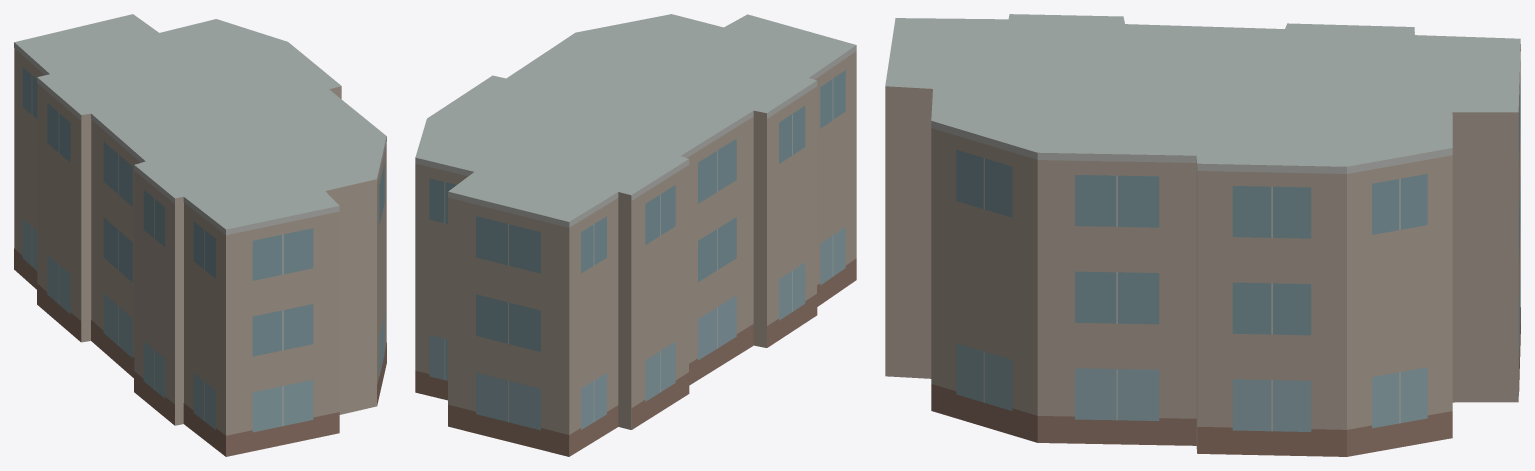
File: survey-upis-32536718.glb
3 views of the same model, side by side, from view 1: azimuth 30°, elevation 25°; view 2: azimuth 150°, elevation 25°; view 3: azimuth 270°, elevation 25° (orthographic). The views are drawn at different scales.
Visible parts, largest first — view 1: survey-upis-32536718.tmp; view 2: survey-upis-32536718.tmp; view 3: survey-upis-32536718.tmp.
Part boxes in pixels (x1,y1,x2,y2): survey-upis-32536718.tmp: (14, 14, 386, 456); survey-upis-32536718.tmp: (415, 14, 856, 456); survey-upis-32536718.tmp: (885, 14, 1520, 456).
Size of the model in its own units: 11.08 by 9.8 by 19.47.
